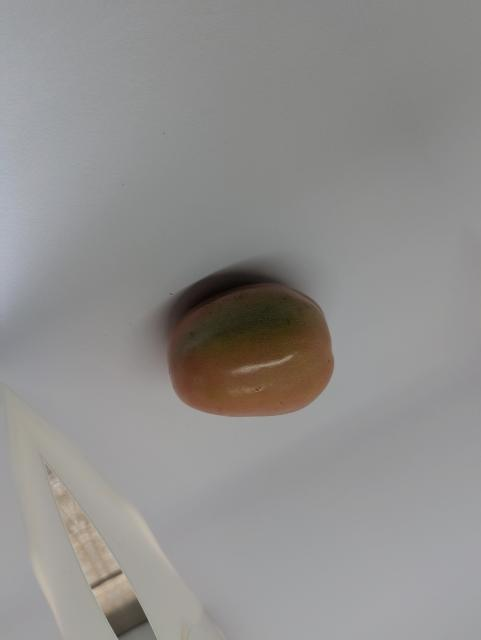turning: (162, 275, 339, 424)
